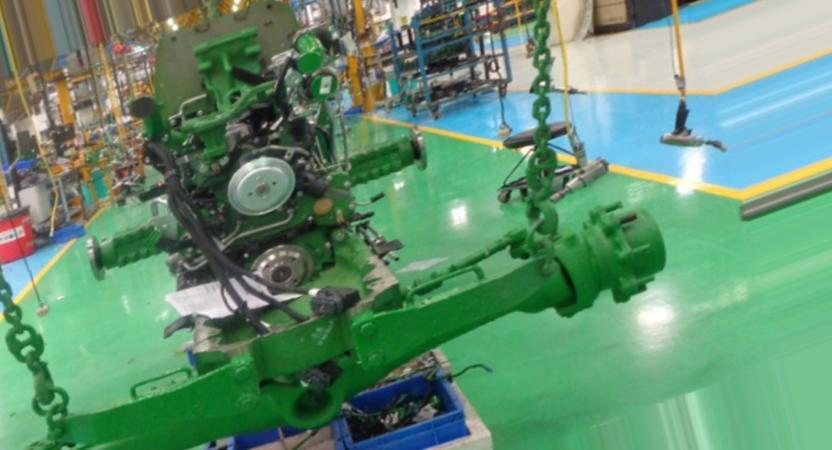engine: (38, 0, 667, 450)
